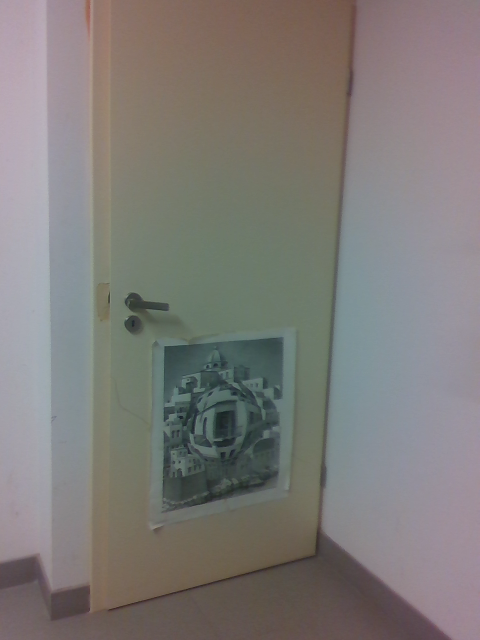closed: (86, 2, 354, 615)
